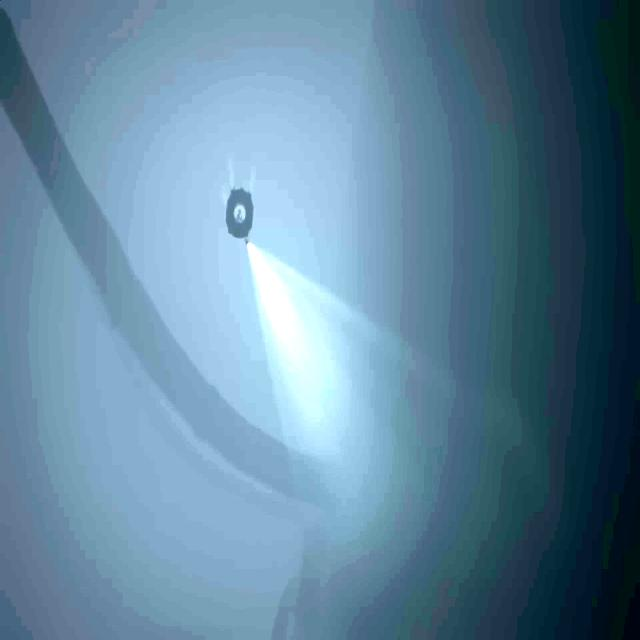submarine: (225, 186, 254, 245)
